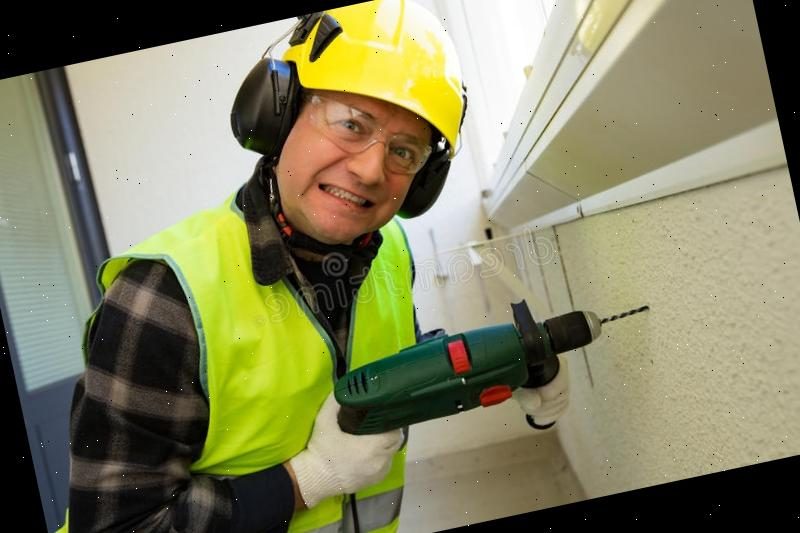helmet: (274, 0, 488, 182)
wear: (82, 223, 451, 533)
